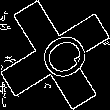O_SW: (22, 23, 88, 87)
